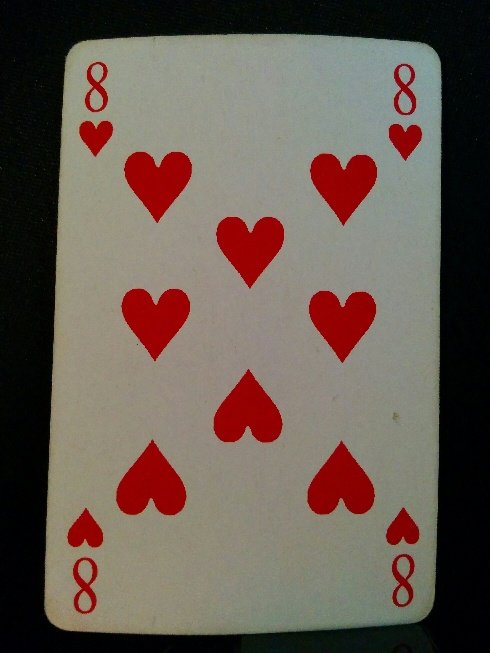H8: (62, 503, 107, 620), (379, 501, 423, 612), (75, 56, 119, 159), (385, 57, 427, 164)
